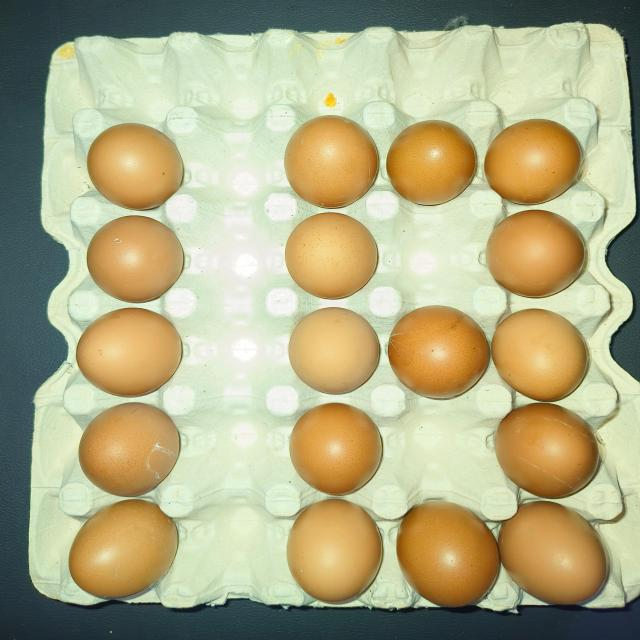Eggs: (59, 501, 188, 595), (76, 398, 189, 497), (487, 199, 595, 299), (503, 502, 608, 600), (406, 496, 498, 605), (390, 295, 487, 397), (81, 306, 192, 395), (491, 304, 584, 404), (86, 212, 190, 300), (285, 400, 387, 488), (81, 119, 188, 202), (287, 305, 383, 395), (281, 210, 388, 289), (499, 402, 596, 488), (294, 112, 383, 202), (294, 505, 381, 596), (495, 115, 584, 194), (391, 118, 474, 196)
